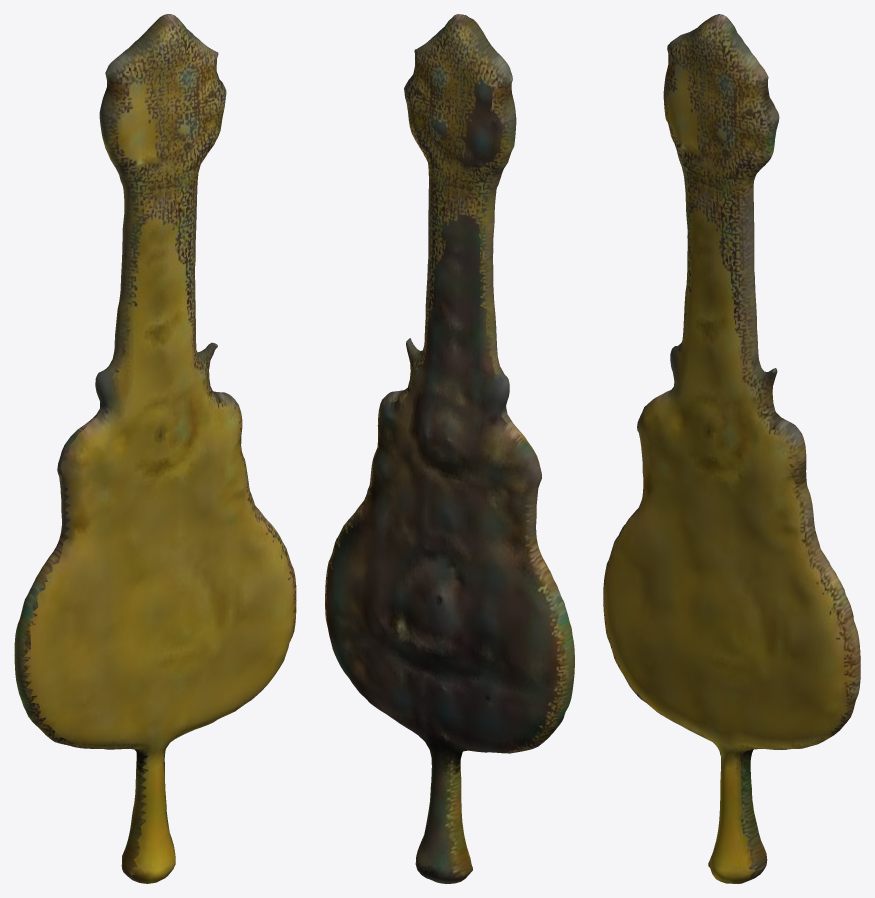
The model's file is kfl-2297.glb.
3 renders of one model, left to right at view 1: azimuth 30°, elevation 25°; view 2: azimuth 150°, elevation 25°; view 3: azimuth 330°, elevation 25°, orthographic. The views are drawn at different scales.
Visible parts, largest first — view 1: geometry_0; view 2: geometry_0; view 3: geometry_0.
Boxes of the visible parts, x1=… form: geometry_0: x1=14, y1=14, x2=296, y2=883; geometry_0: x1=325, y1=14, x2=574, y2=883; geometry_0: x1=603, y1=14, x2=860, y2=883.
Size of the model in its own units: 0.3121 by 0.9882 by 0.083.
Materials: 1 (1 with a texture image).
